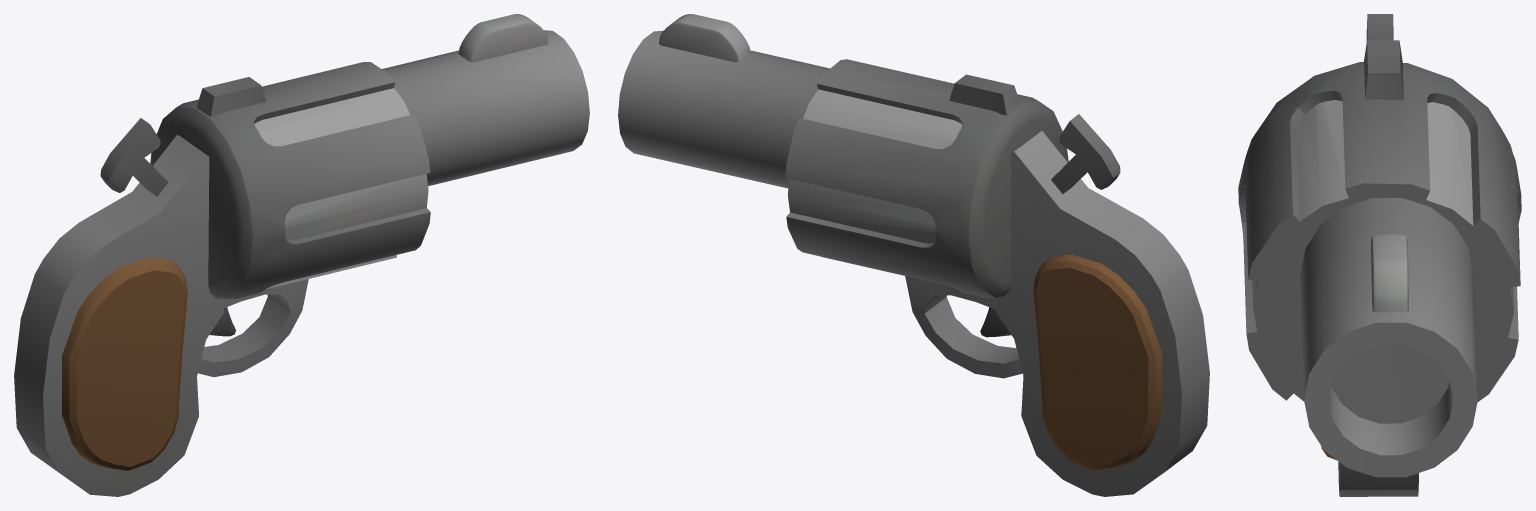
Rendered from gun_pistol.fbx.
3 renders of one model, left to right at view 1: azimuth 30°, elevation 25°; view 2: azimuth 150°, elevation 25°; view 3: azimuth 270°, elevation 25°, orthographic. The views are drawn at different scales.
Visible parts, largest first — view 1: Cube.001; view 2: Cube.001; view 3: Cube.001.
Part boxes in pixels (<box>): Cube.001: <box>14,14,589,496</box>; Cube.001: <box>618,14,1209,496</box>; Cube.001: <box>1238,14,1521,496</box>.
Size of the model in its own units: 74.53 by 48.8 by 24.49.
